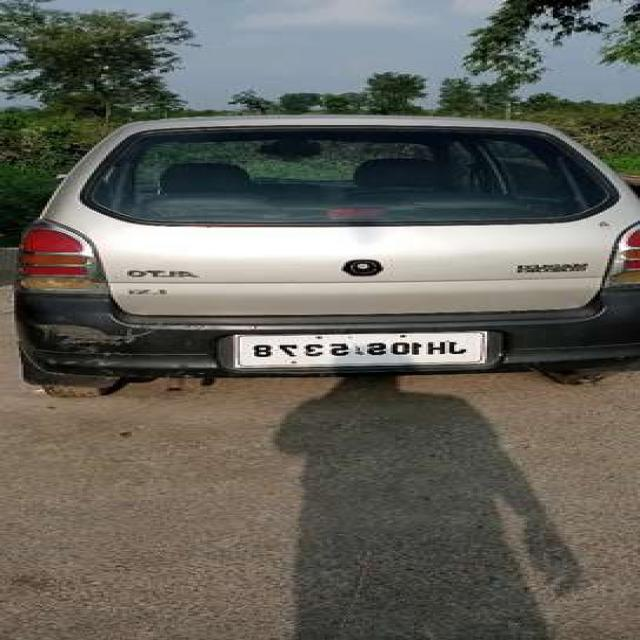license_plate: (232, 330, 488, 370)
